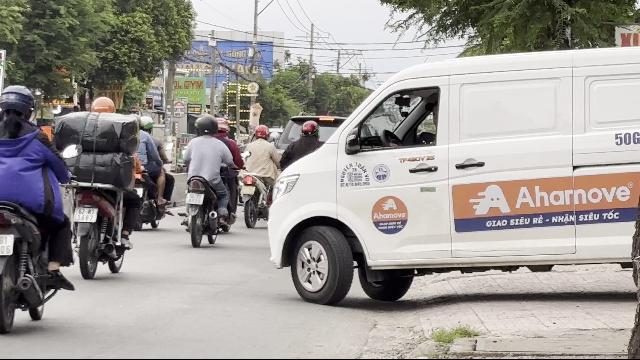helmet: (0, 85, 36, 123), (194, 114, 218, 136), (90, 97, 116, 114), (216, 118, 230, 137), (138, 115, 154, 131)
licenseplate: (74, 206, 98, 222), (186, 193, 204, 205)
motorcyclist: (0, 83, 74, 333), (58, 94, 142, 278), (178, 113, 240, 247), (130, 108, 174, 230)
